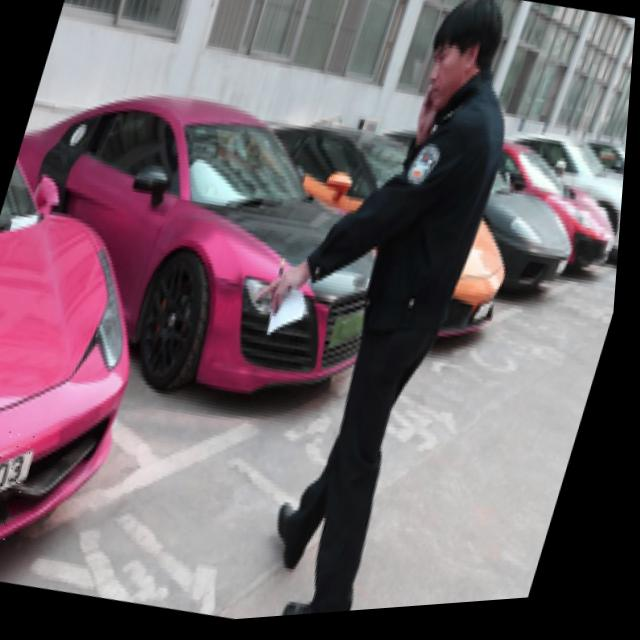license_plate: (0, 418, 44, 543)
